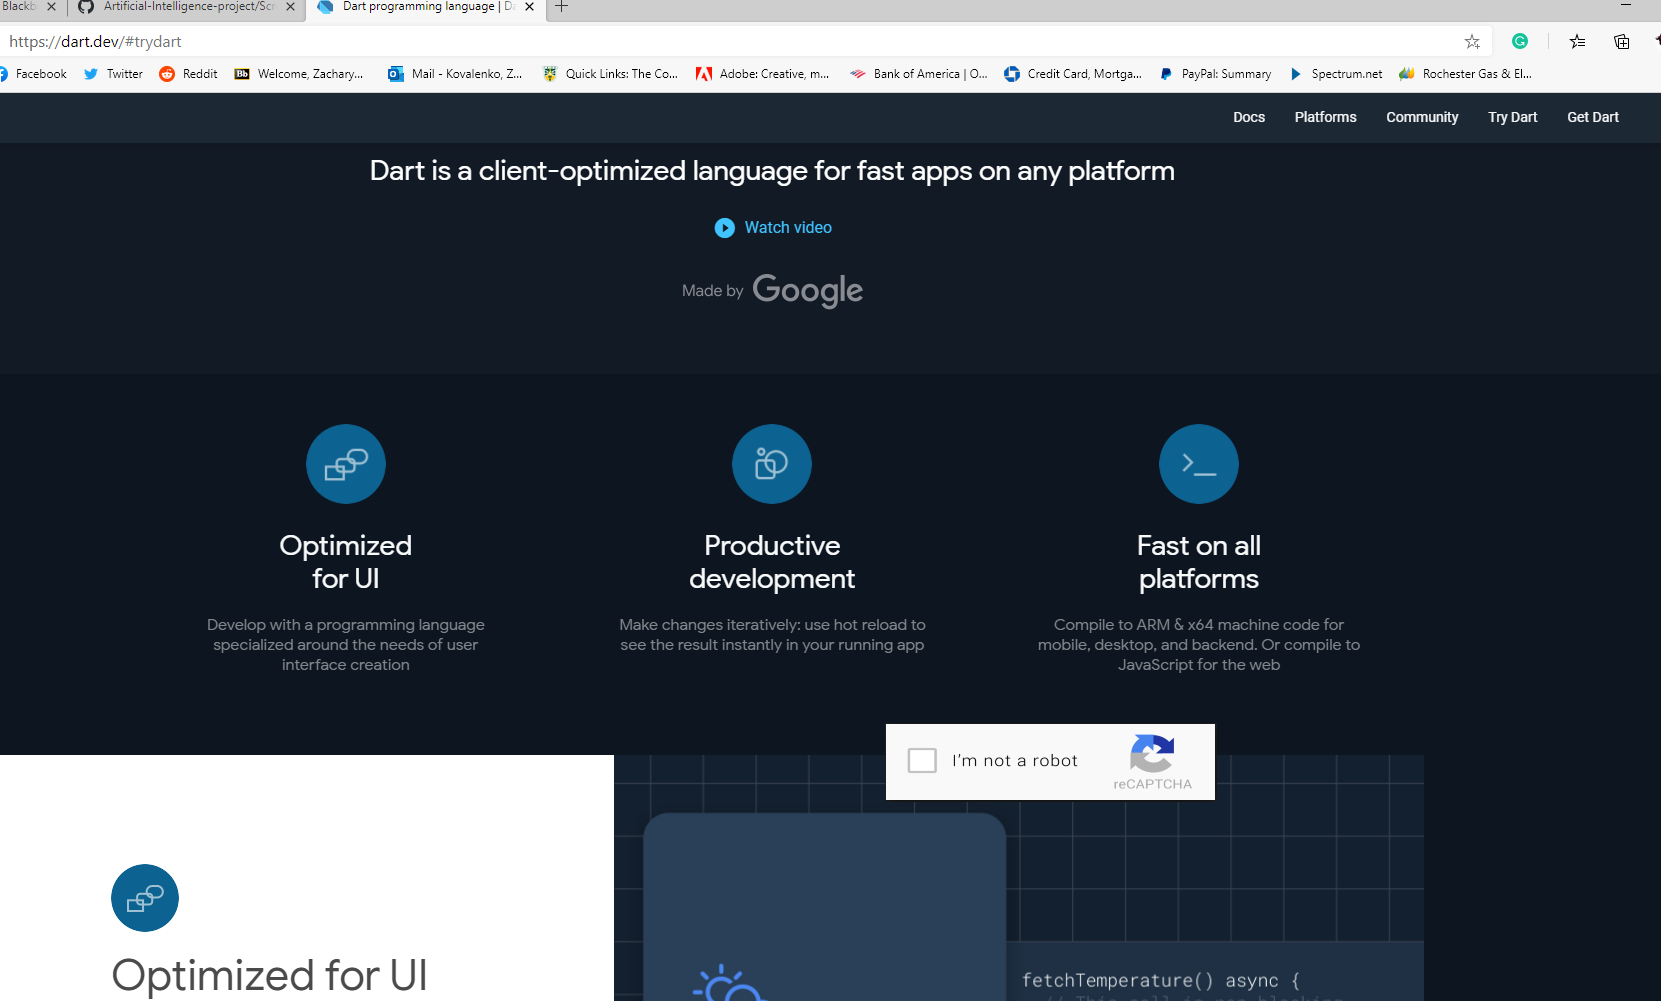captcha: (886, 723, 1214, 799)
